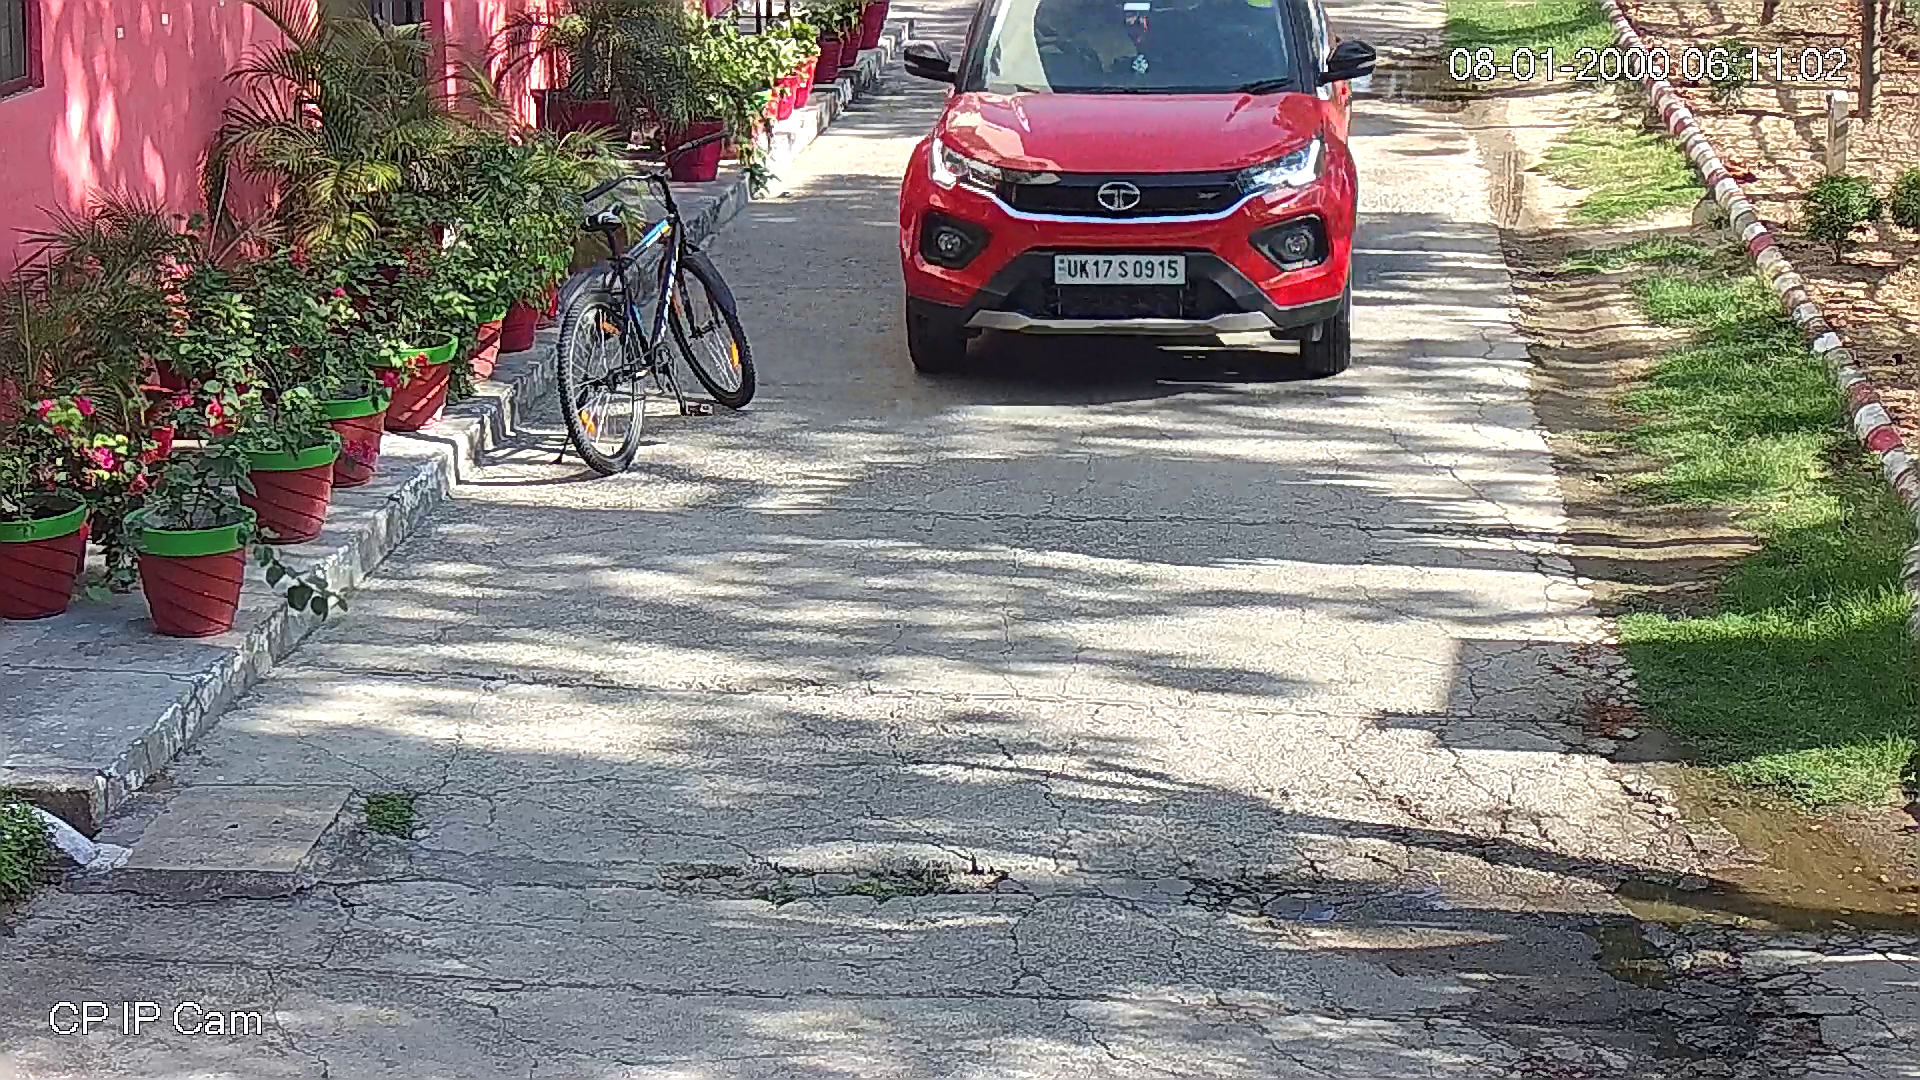plate: (1054, 249, 1186, 289)
